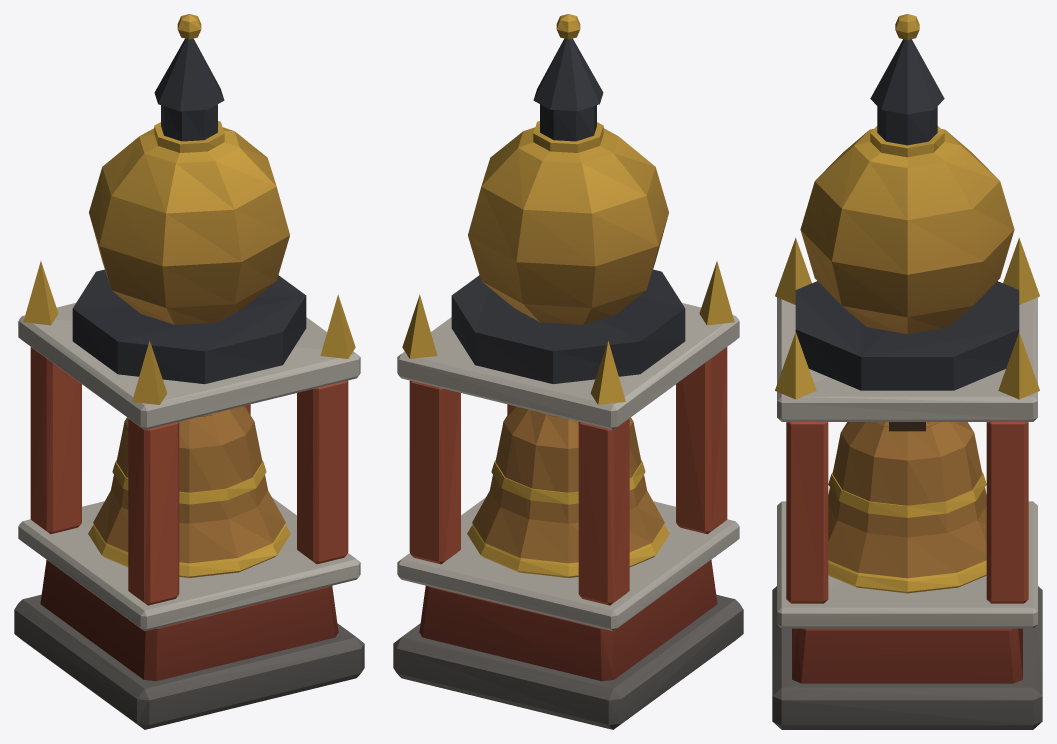
Rendered from great_toll.glb.
3 views of the same model, side by side, from view 1: azimuth 30°, elevation 25°; view 2: azimuth 150°, elevation 25°; view 3: azimuth 270°, elevation 25° (orthographic). The views are drawn at different scales.
Visible parts, largest first — view 1: great_toll; view 2: great_toll; view 3: great_toll.
Boxes of the visible parts, x1,y1,x2,y2 form: great_toll: (14,14,364,729); great_toll: (393,14,743,729); great_toll: (772,14,1042,729).
Bounding box in the file's own units: 0.58 × 1.57 × 0.58.
